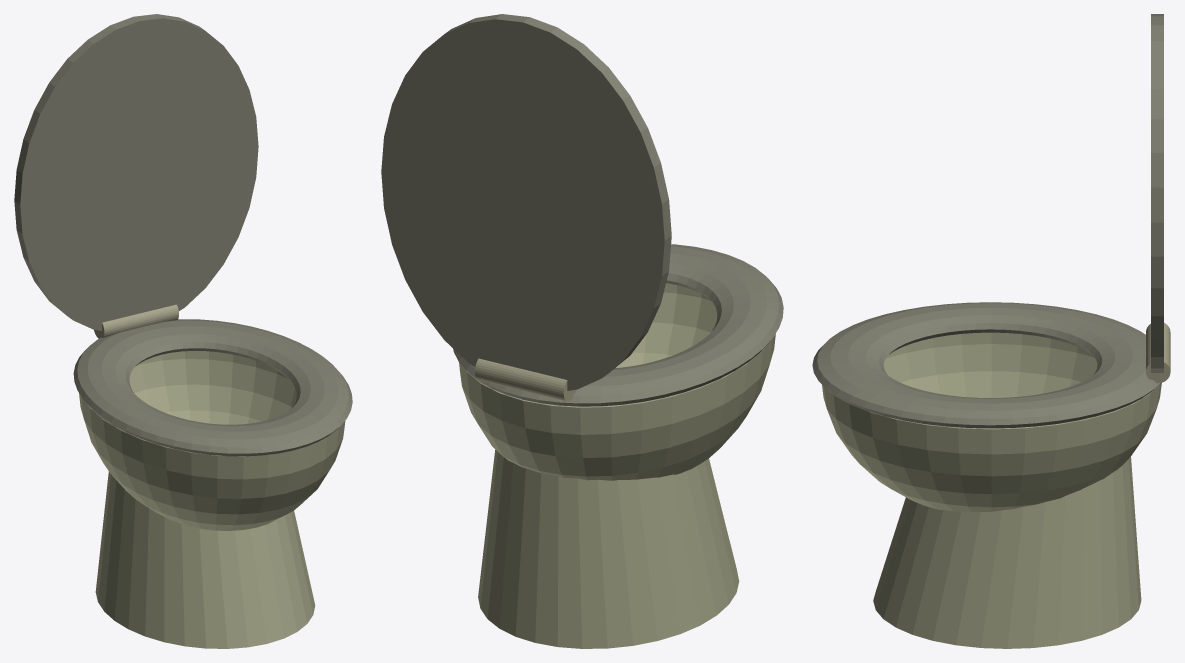
Rendered from chiotte.fbx.
The picture shows the model from 3 angles, left to right: view 1: azimuth 30°, elevation 25°; view 2: azimuth 150°, elevation 25°; view 3: azimuth 270°, elevation 25°; orthographic projection. The views are drawn at different scales.
Visible parts, largest first — view 1: Cylinder.006, Cylinder.009, Cylinder.007; view 2: Cylinder.006, Cylinder.009, Cylinder.007; view 3: Cylinder.009, Cylinder.006, Cylinder.007.
Part boxes in pixels (x1=…): Cylinder.006: x1=14, y1=14, x2=352, y2=456; Cylinder.009: x1=79, y1=351, x2=345, y2=648; Cylinder.007: x1=94, y1=304, x2=178, y2=338; Cylinder.006: x1=381, y1=14, x2=783, y2=406; Cylinder.009: x1=459, y1=283, x2=775, y2=648; Cylinder.007: x1=475, y1=358, x2=576, y2=401; Cylinder.009: x1=822, y1=332, x2=1161, y2=648; Cylinder.006: x1=812, y1=14, x2=1163, y2=428; Cylinder.007: x1=1146, y1=323, x2=1170, y2=383.
Bounding box in the file's own units: 45.19 × 95.93 × 54.11.
